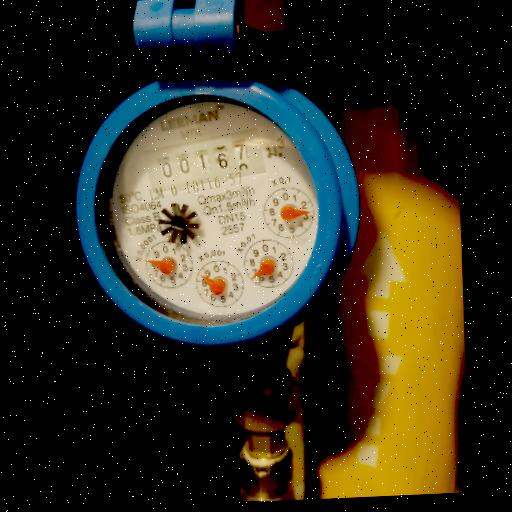0: (175, 152, 194, 179), (157, 157, 176, 182)
1: (194, 149, 213, 176)
6: (213, 145, 231, 172)
7: (231, 139, 251, 172)
border_water_meter_number: (141, 126, 268, 199)
